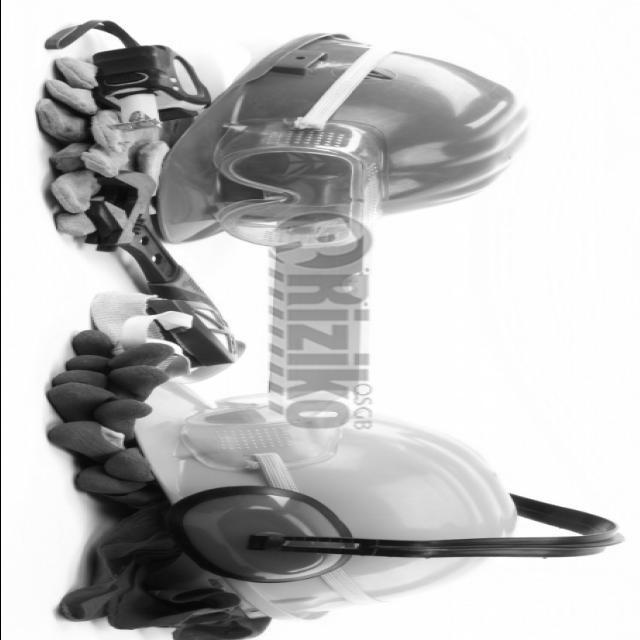safety_helmet: (130, 381, 624, 621), (152, 34, 529, 249)
